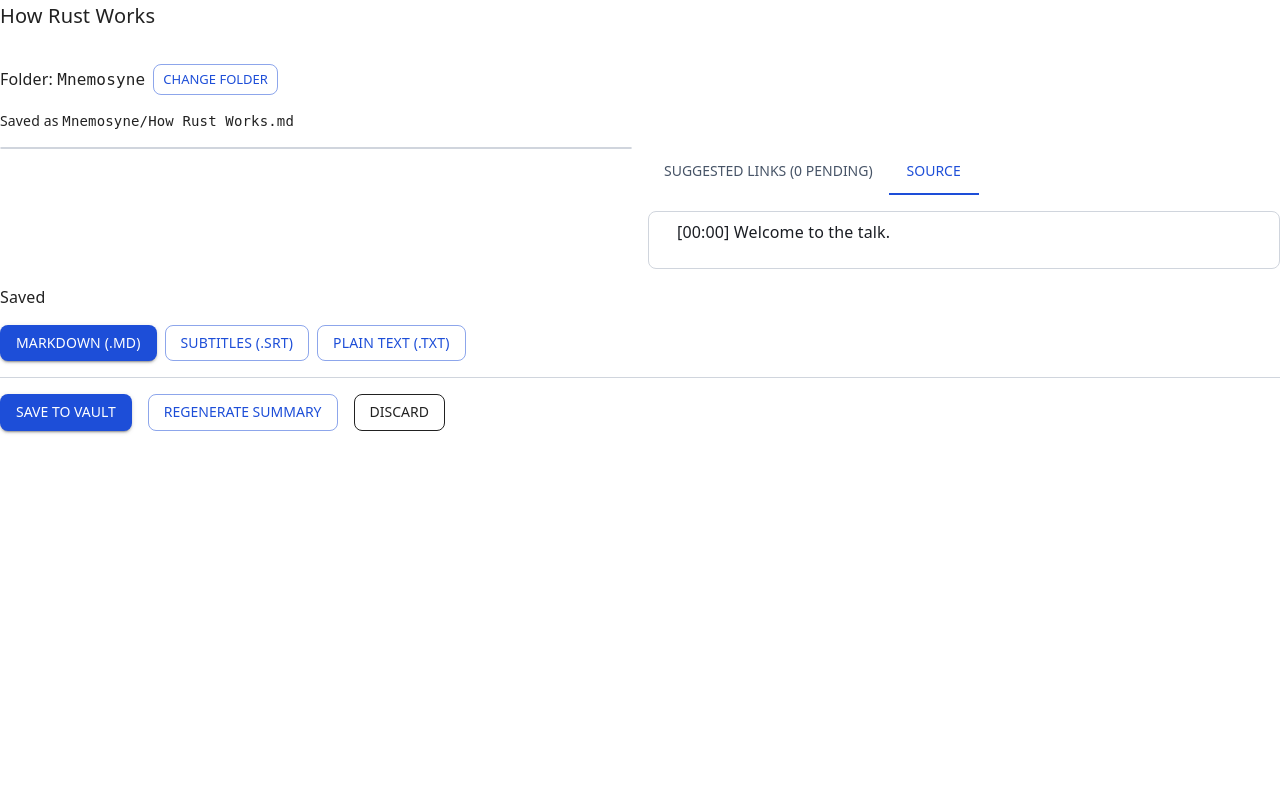
Test case: ReviewScreen regenerate › closes the dialog with Cancel and sends nothing
Click the button "Regenerate summary": (243, 413) [148, 394, 338, 431]
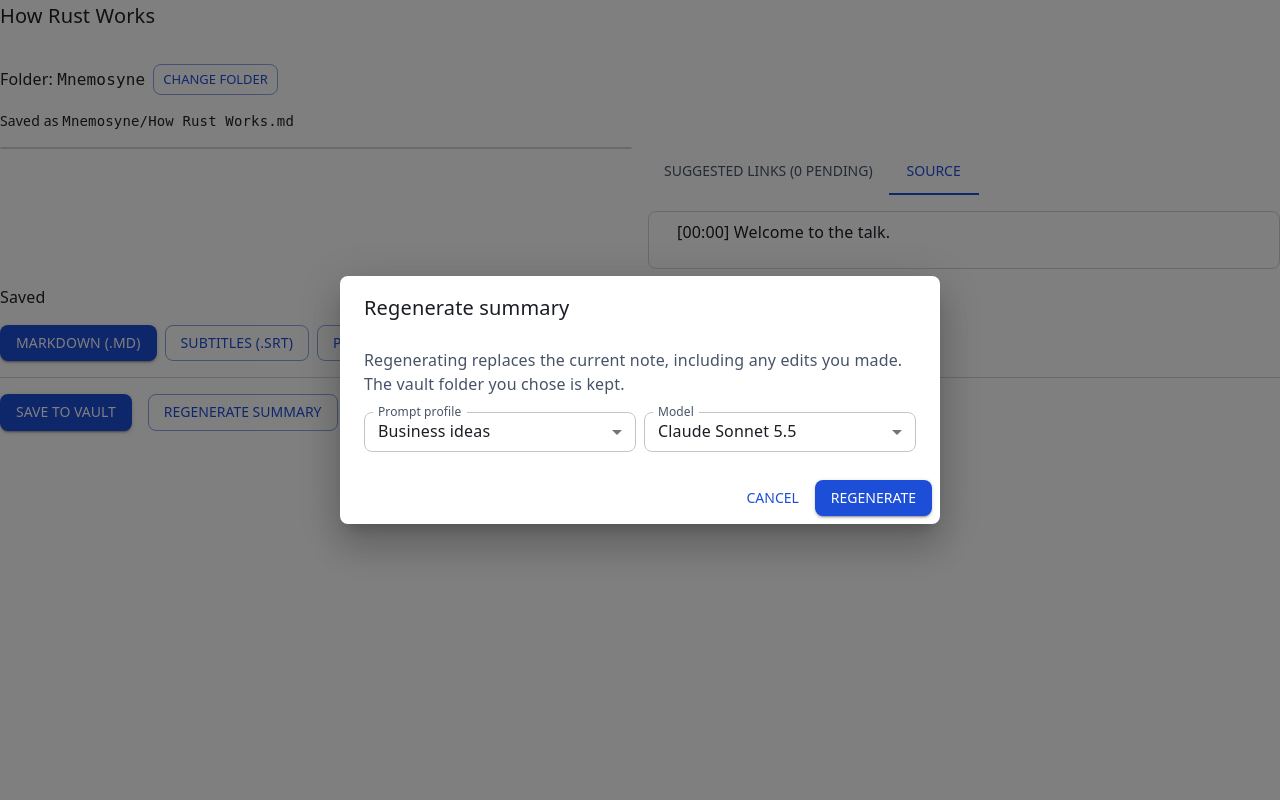
Click the button "Cancel": (773, 498) [738, 480, 807, 516]
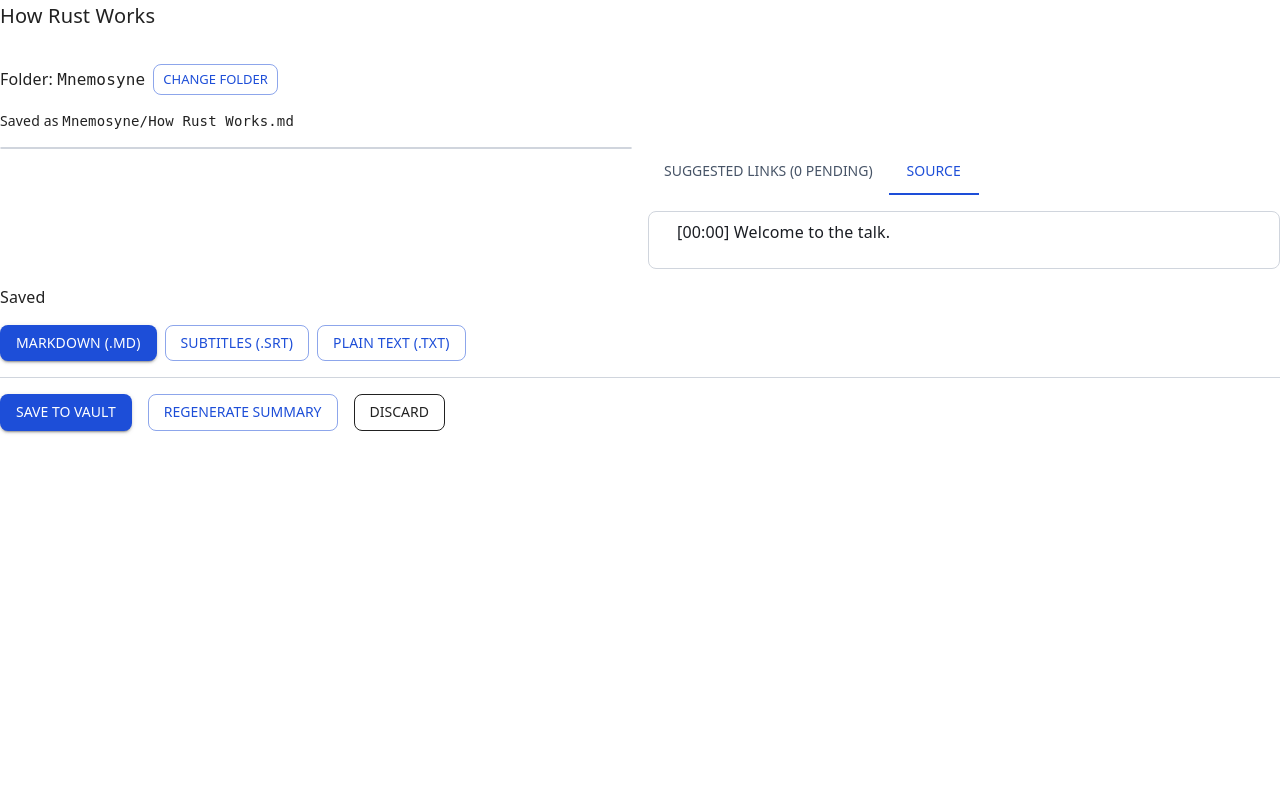
Expected: the dialog is gone
